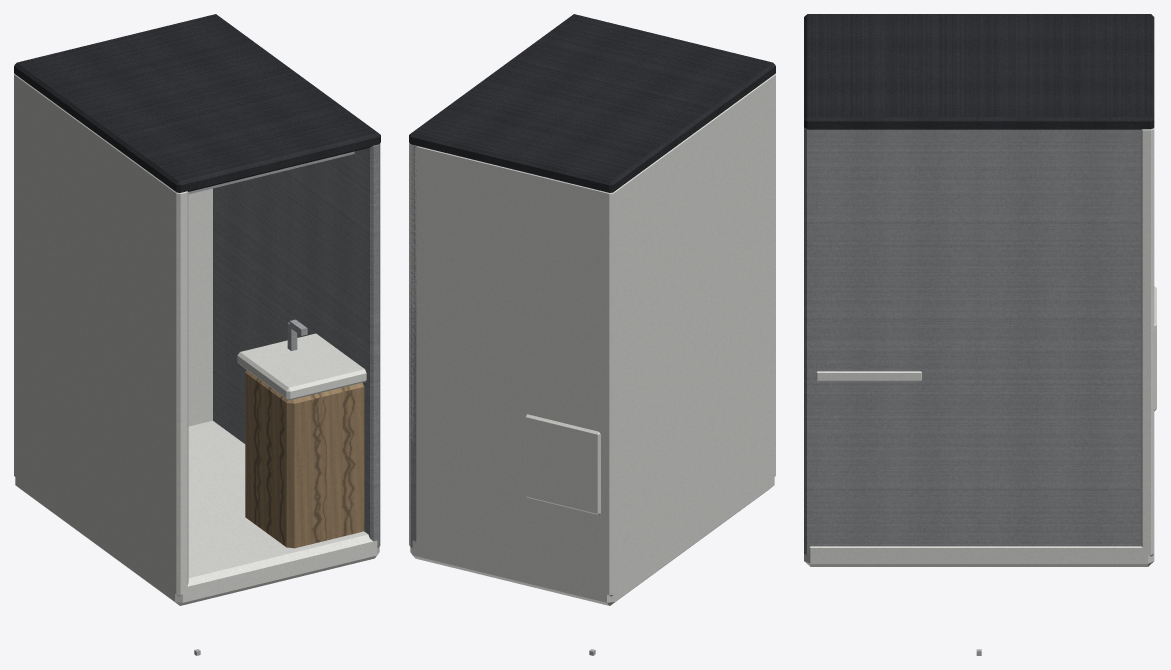
File: rv_furn_bathroom.gltf
3 renders of one model, left to right at view 1: azimuth 30°, elevation 25°; view 2: azimuth 150°, elevation 25°; view 3: azimuth 270°, elevation 25°, orthographic. The views are drawn at different scales.
Parts seen in each view (by area): view 1: RV_Furn_Bathroom; view 2: RV_Furn_Bathroom; view 3: RV_Furn_Bathroom.
Part boxes in pixels (bbox=[...]): RV_Furn_Bathroom: bbox=[14, 14, 380, 655]; RV_Furn_Bathroom: bbox=[409, 14, 775, 655]; RV_Furn_Bathroom: bbox=[804, 14, 1156, 655].
Size of the model in its own units: 1 by 2.6 by 1.41.
7 materials, 6 textured.
